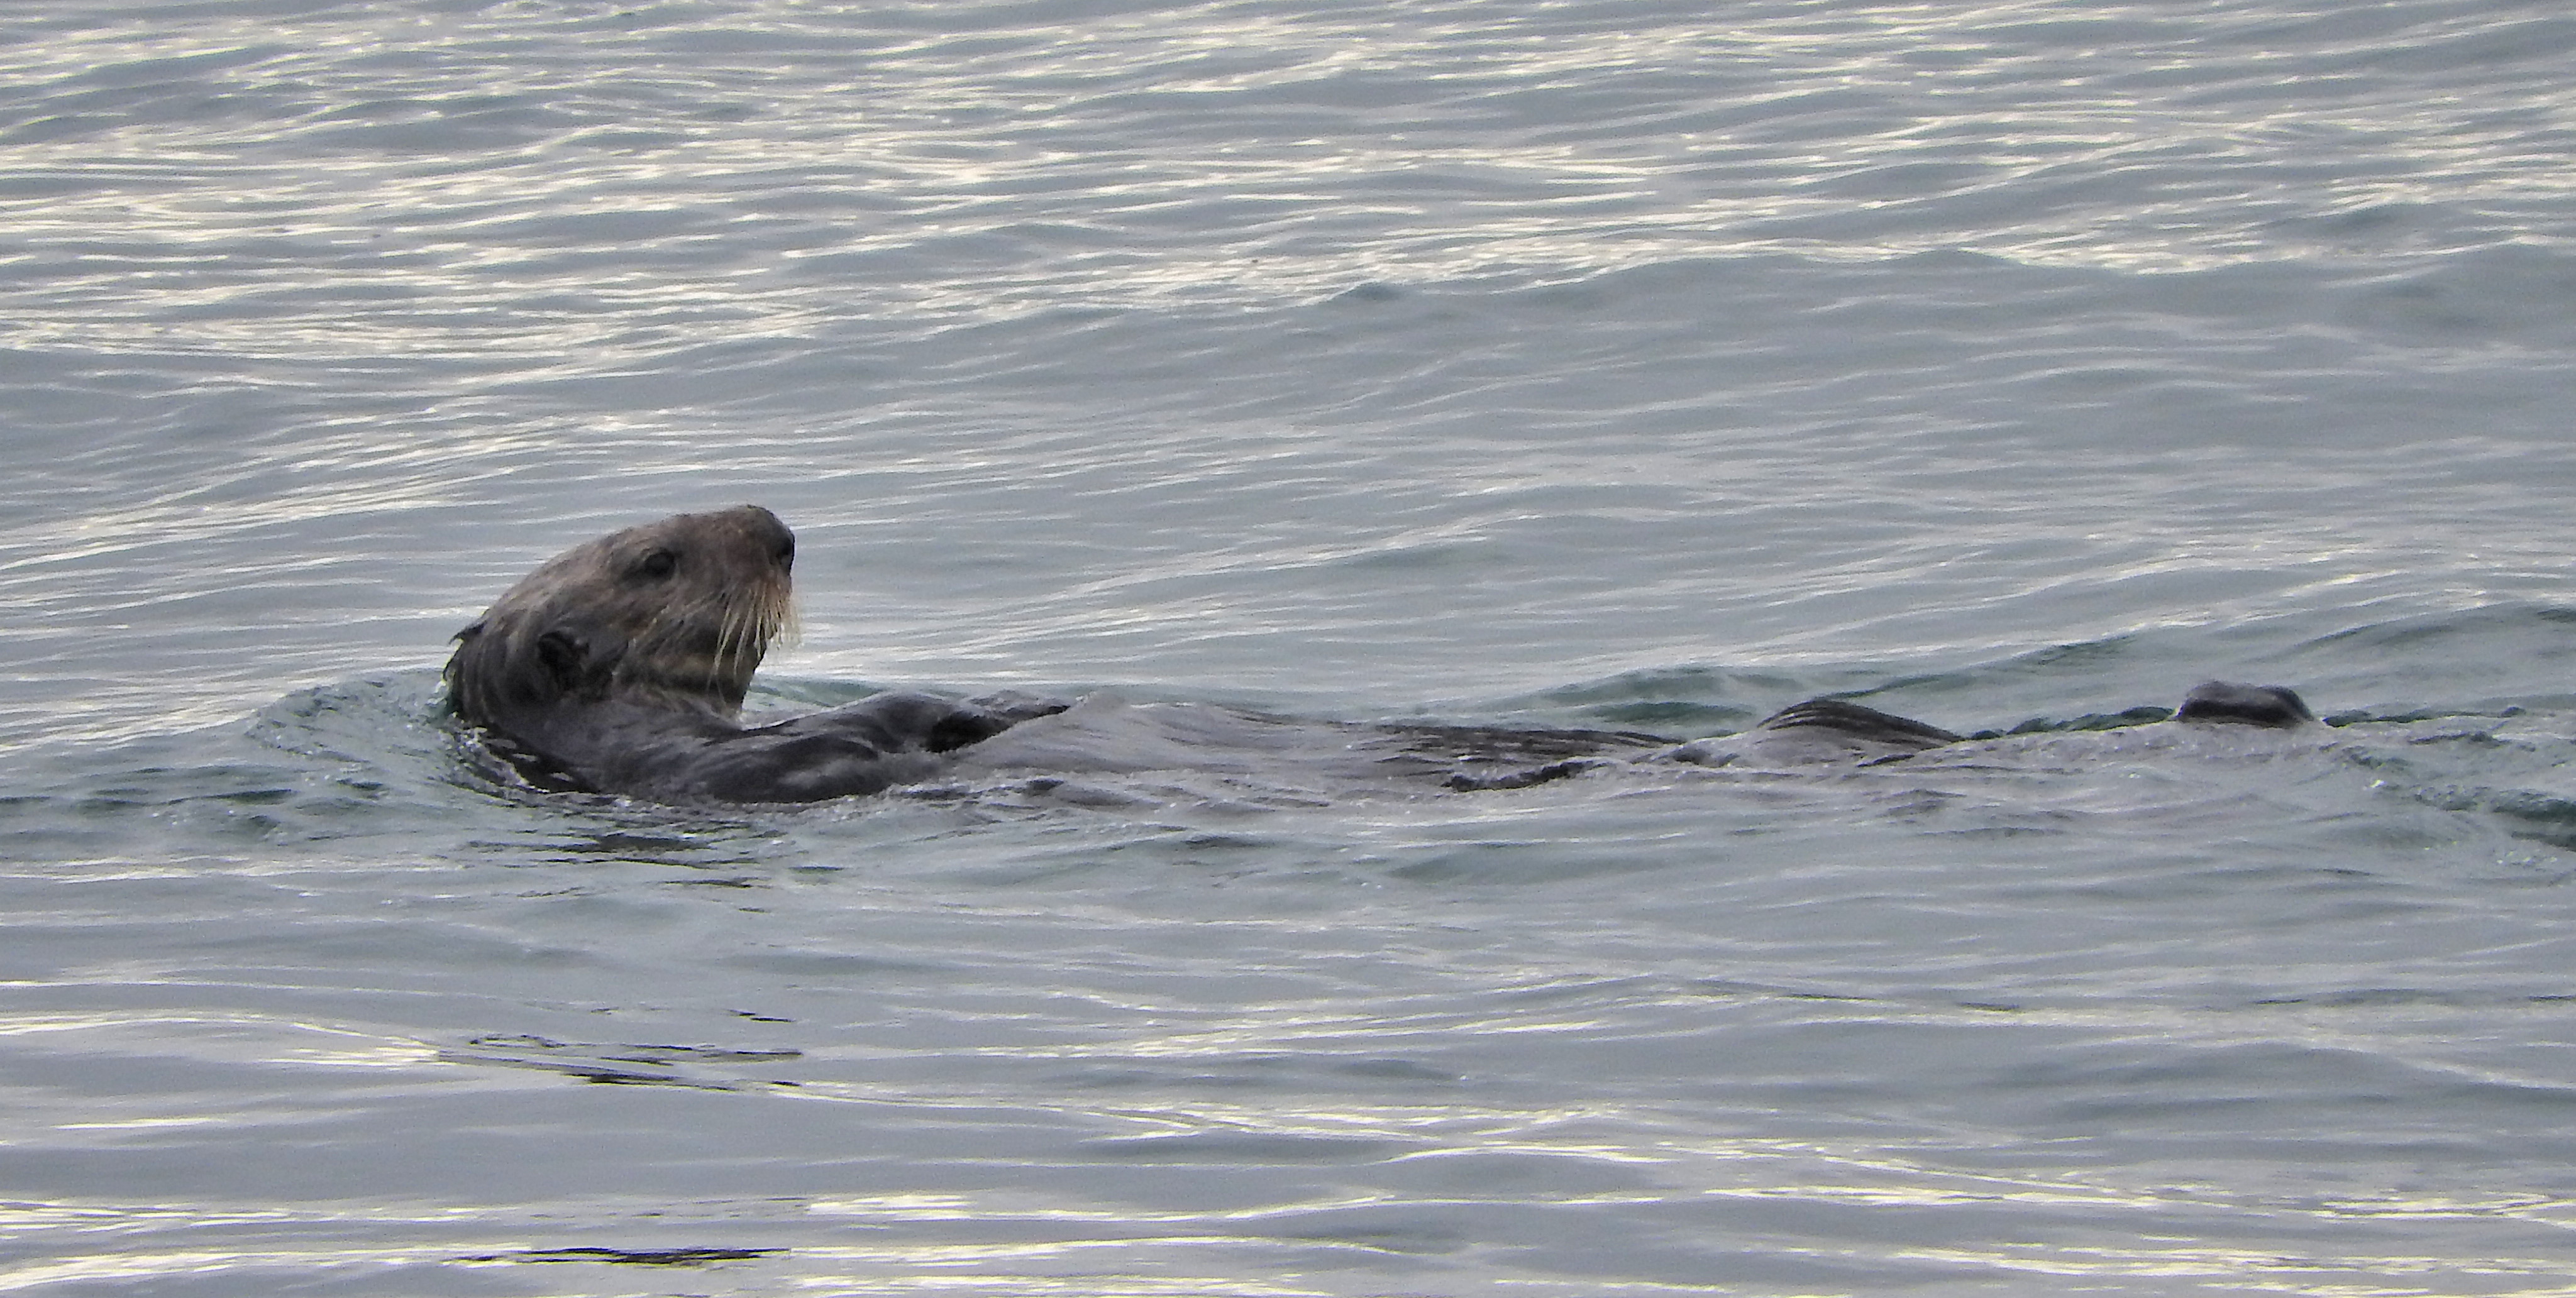otter: (320, 353, 1012, 904)
